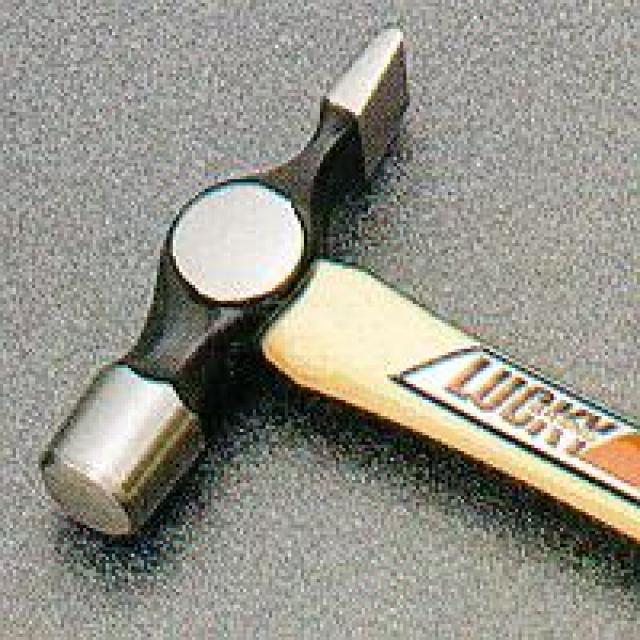hammer: (35, 17, 640, 575)
